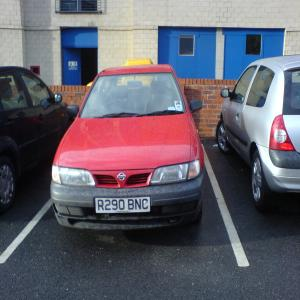Vehicle-registration-plate: (97, 199, 151, 214)
